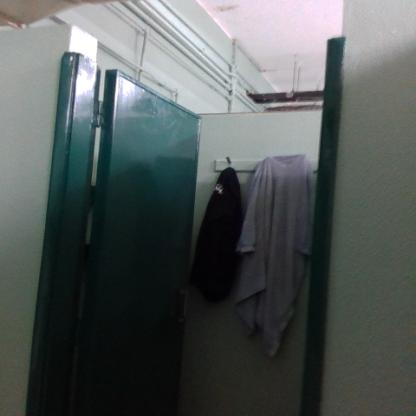open: (68, 24, 347, 412)
